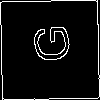G: (25, 24, 70, 63)
